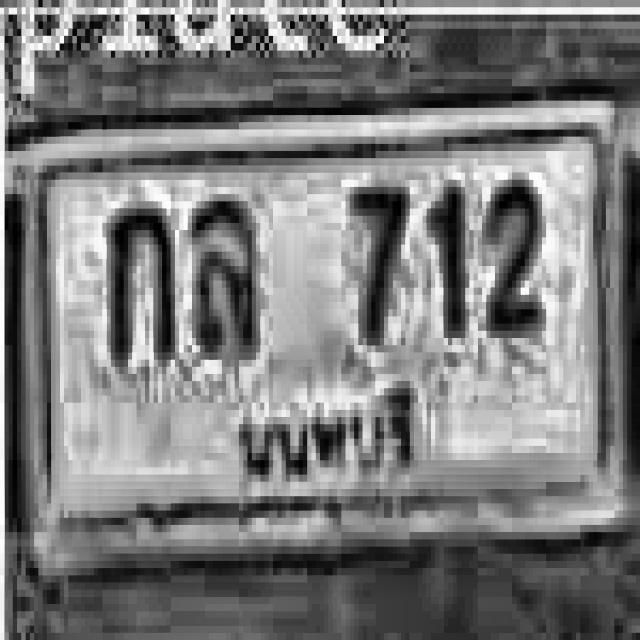license-plate: (17, 98, 629, 585)
